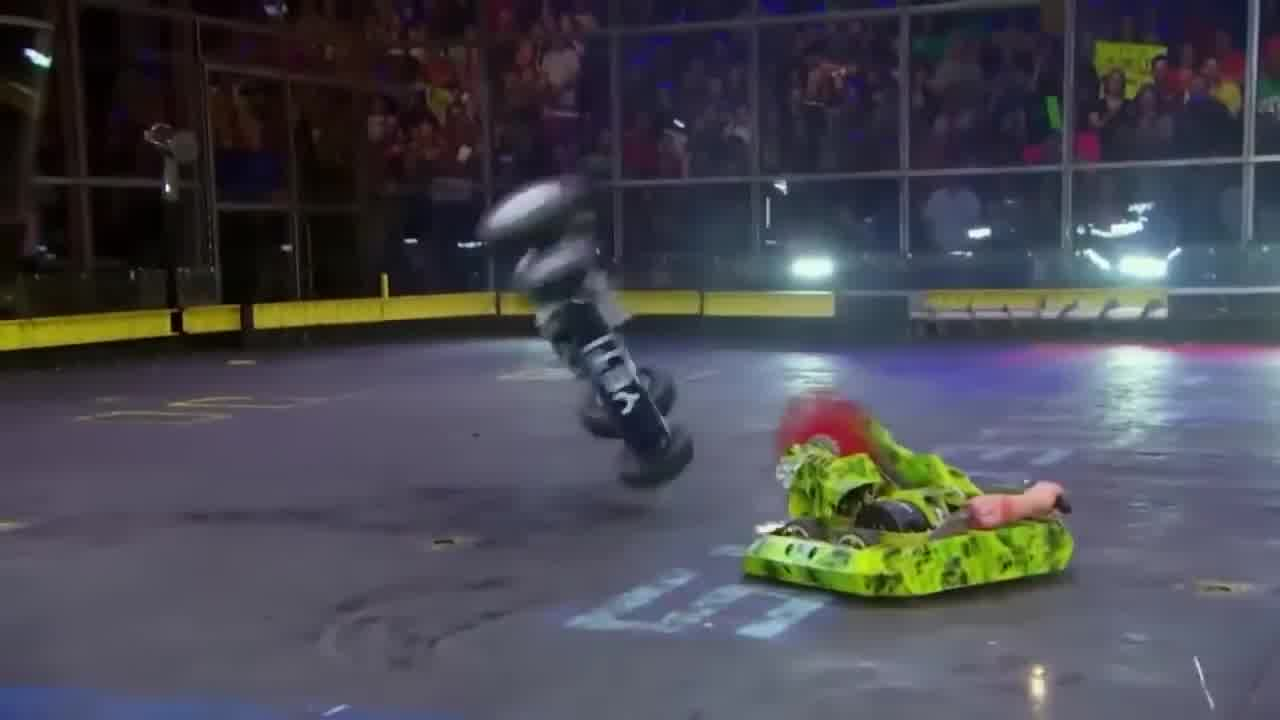combatbot: (486, 176, 694, 487), (749, 435, 1080, 601)
